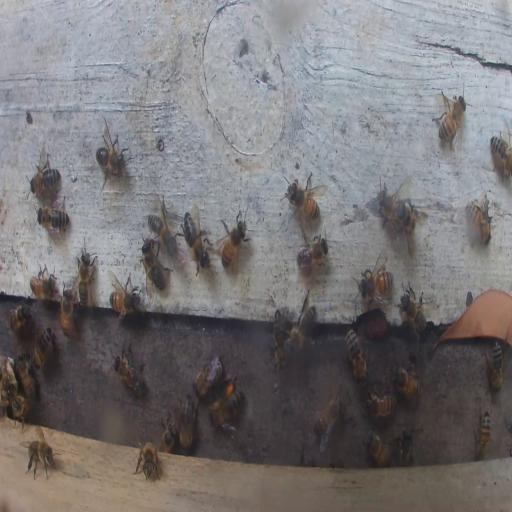nonpollenbee: (378, 183, 416, 244), (94, 122, 129, 186), (217, 208, 250, 272), (310, 394, 344, 456), (434, 90, 467, 151), (398, 282, 431, 339), (181, 211, 211, 270), (284, 176, 322, 219), (24, 434, 58, 482), (286, 300, 316, 352), (113, 346, 145, 394), (268, 308, 292, 370), (27, 150, 60, 194), (146, 200, 176, 248), (140, 241, 168, 291), (76, 242, 96, 308), (109, 276, 141, 316), (354, 266, 392, 299), (466, 198, 492, 246), (346, 328, 368, 384), (297, 235, 329, 272), (192, 356, 222, 395), (133, 440, 161, 481), (490, 131, 512, 181), (472, 406, 492, 460), (36, 203, 71, 233), (177, 394, 196, 448), (364, 390, 397, 420), (364, 430, 391, 466), (18, 351, 37, 402), (32, 326, 53, 370), (29, 266, 56, 300), (393, 364, 419, 398), (60, 284, 76, 338), (395, 426, 416, 466), (490, 340, 504, 390), (8, 303, 32, 332), (2, 360, 16, 404), (160, 421, 176, 455), (11, 394, 29, 424)
pollenbee: (210, 384, 246, 429)
